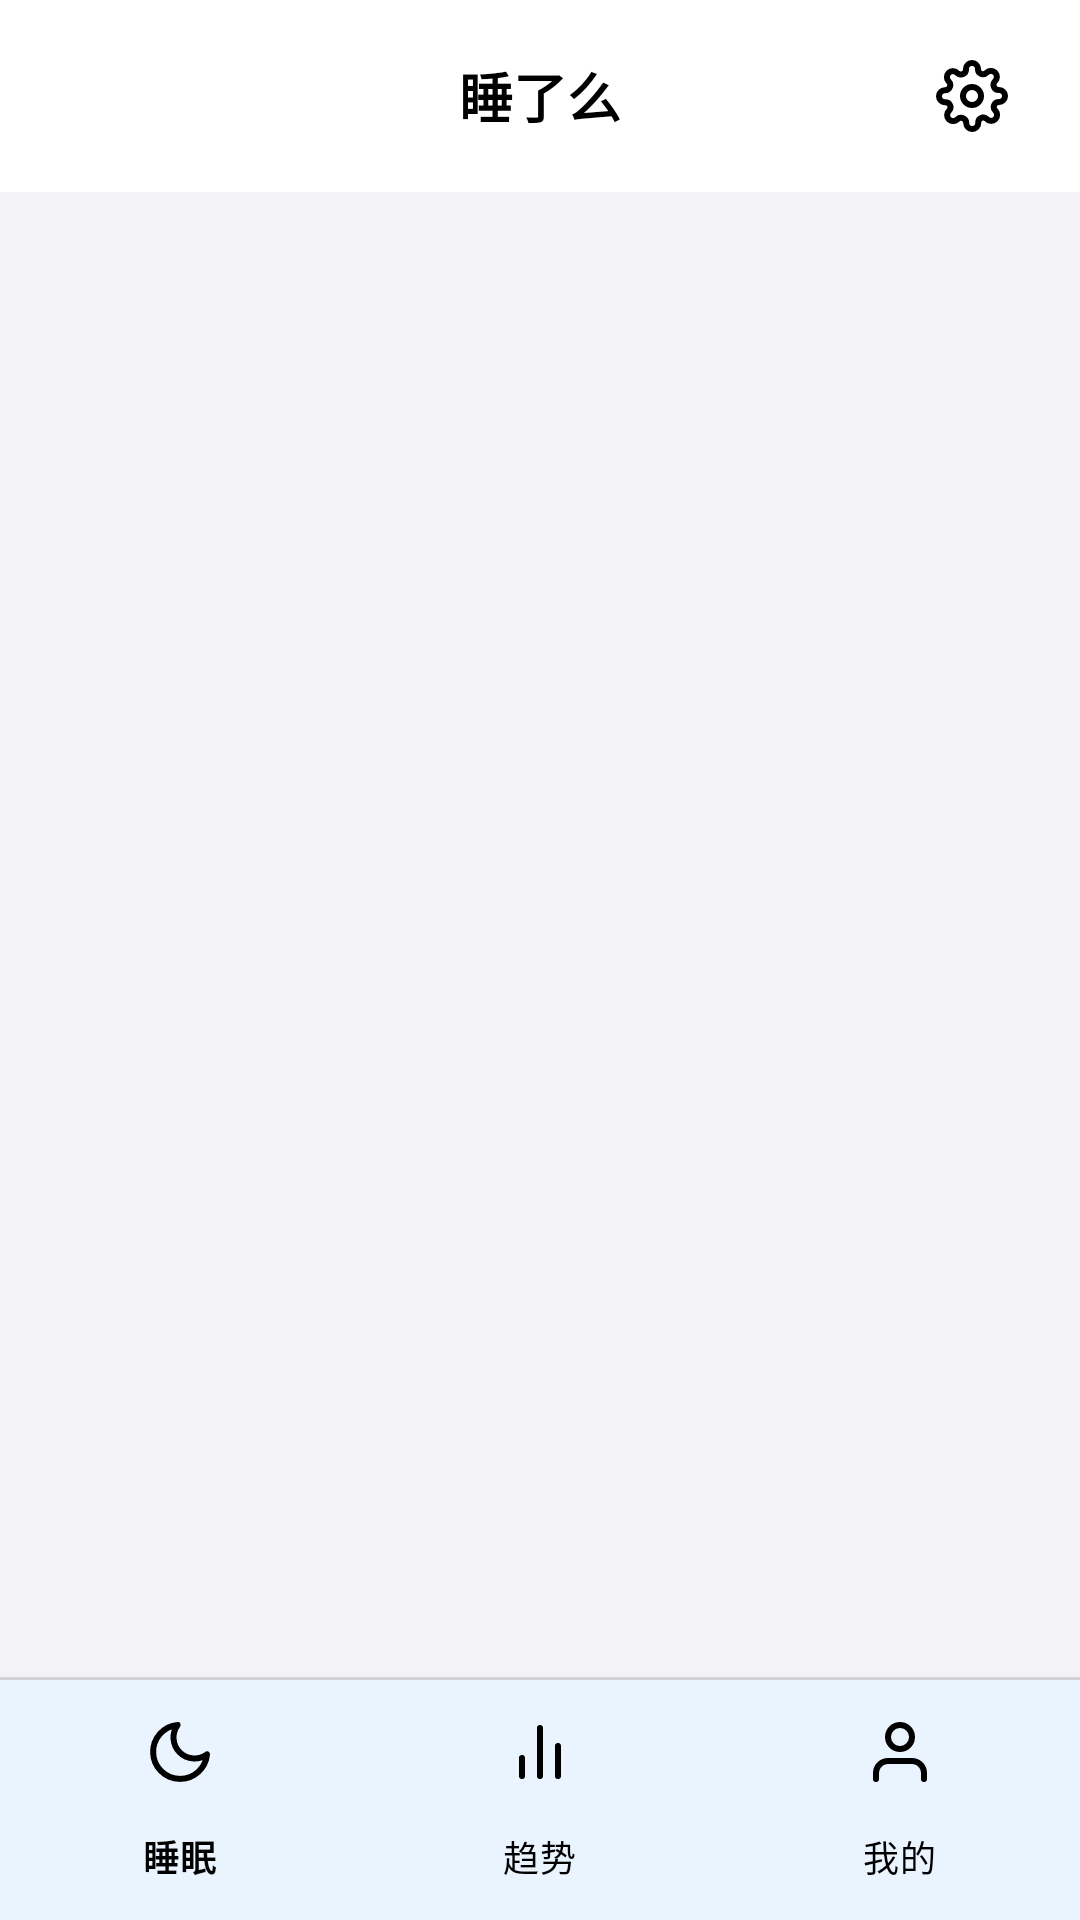

Icon click points for this 1080*1920 phone screenshot, format point (x, y):
settings: point (972, 96)
